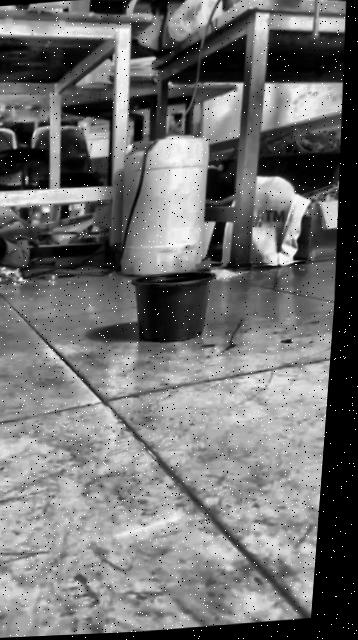pot: (128, 267, 218, 344)
